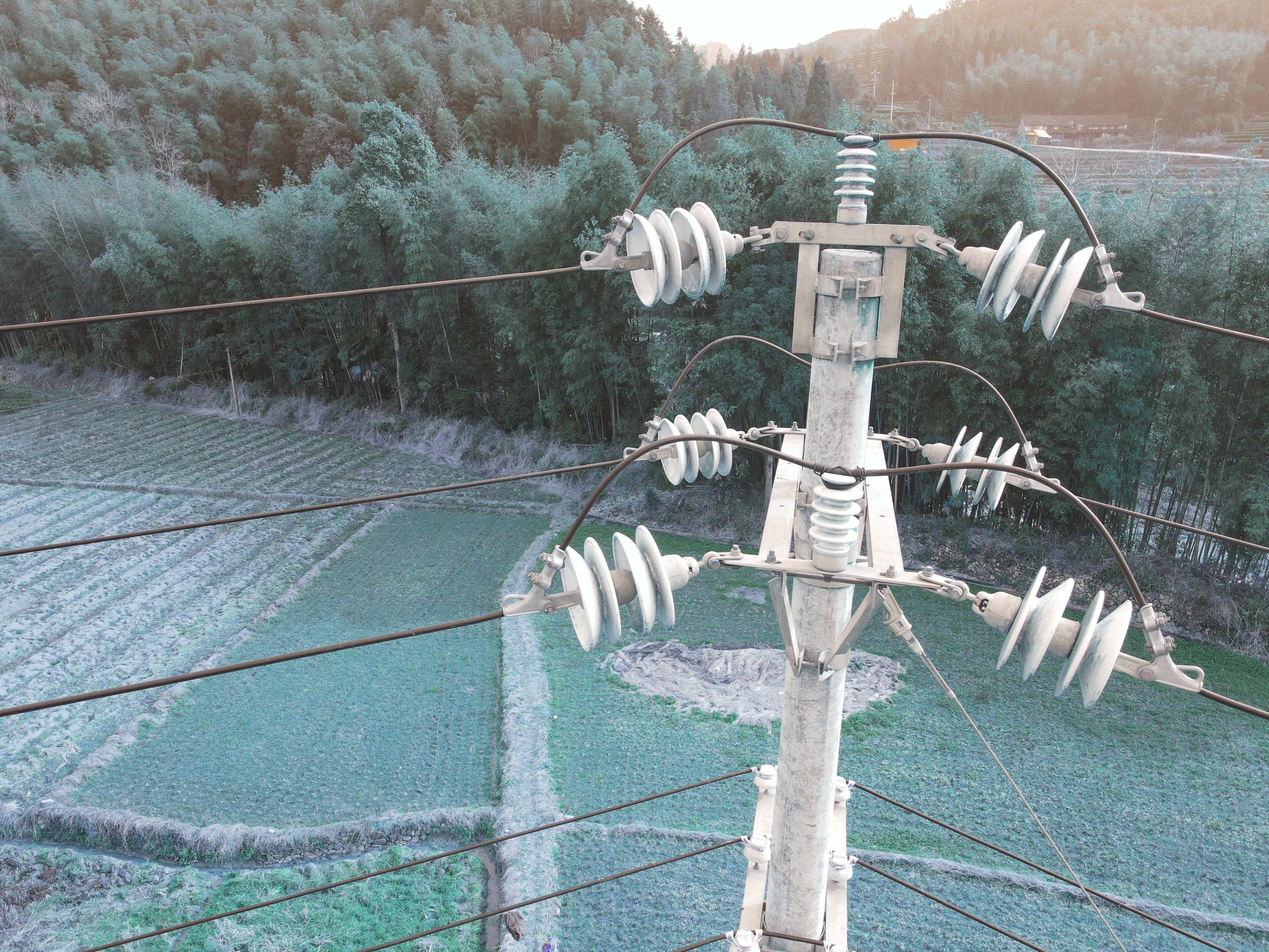severe_soiling_no_discharge_whole: (973, 559, 1134, 708), (962, 220, 1094, 344), (924, 422, 1021, 513), (806, 471, 863, 570), (832, 131, 879, 221)
